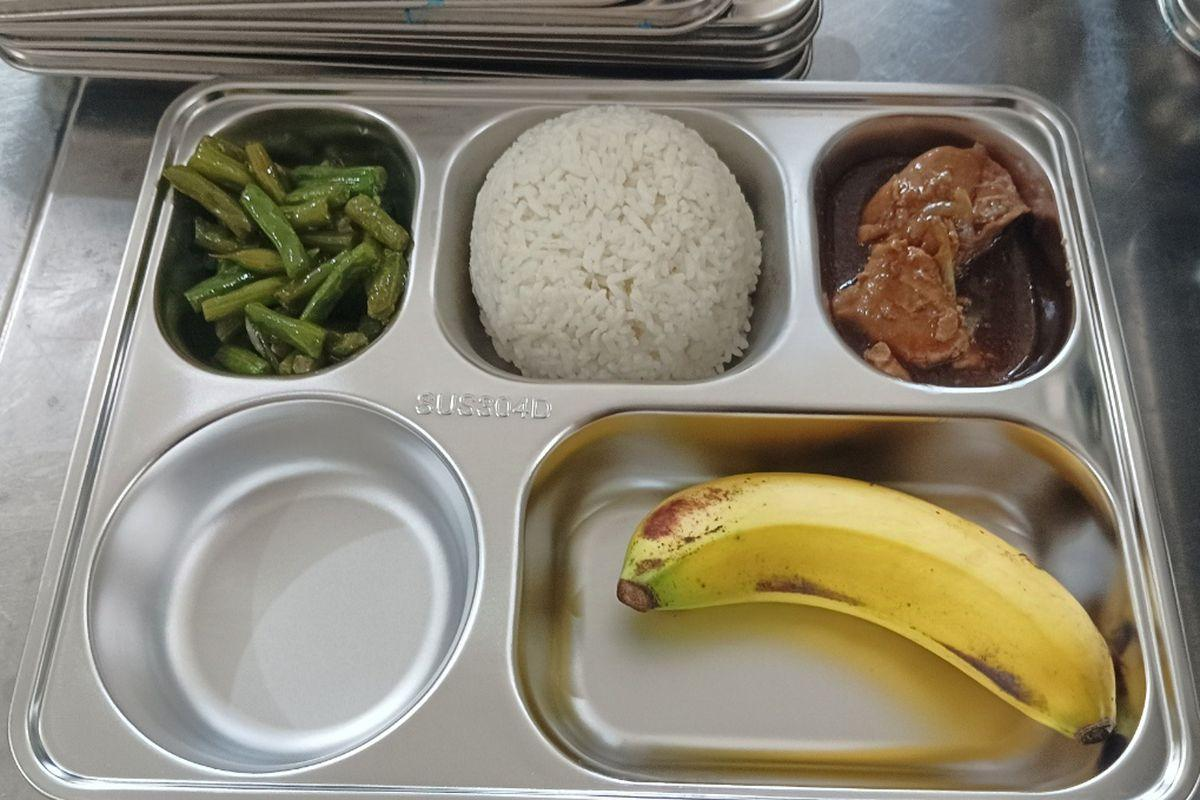buah_sayur_lainnya: (212, 171, 362, 334), (707, 509, 962, 595)
daging: (875, 178, 960, 361)
makanan_berpati: (523, 141, 707, 322)
